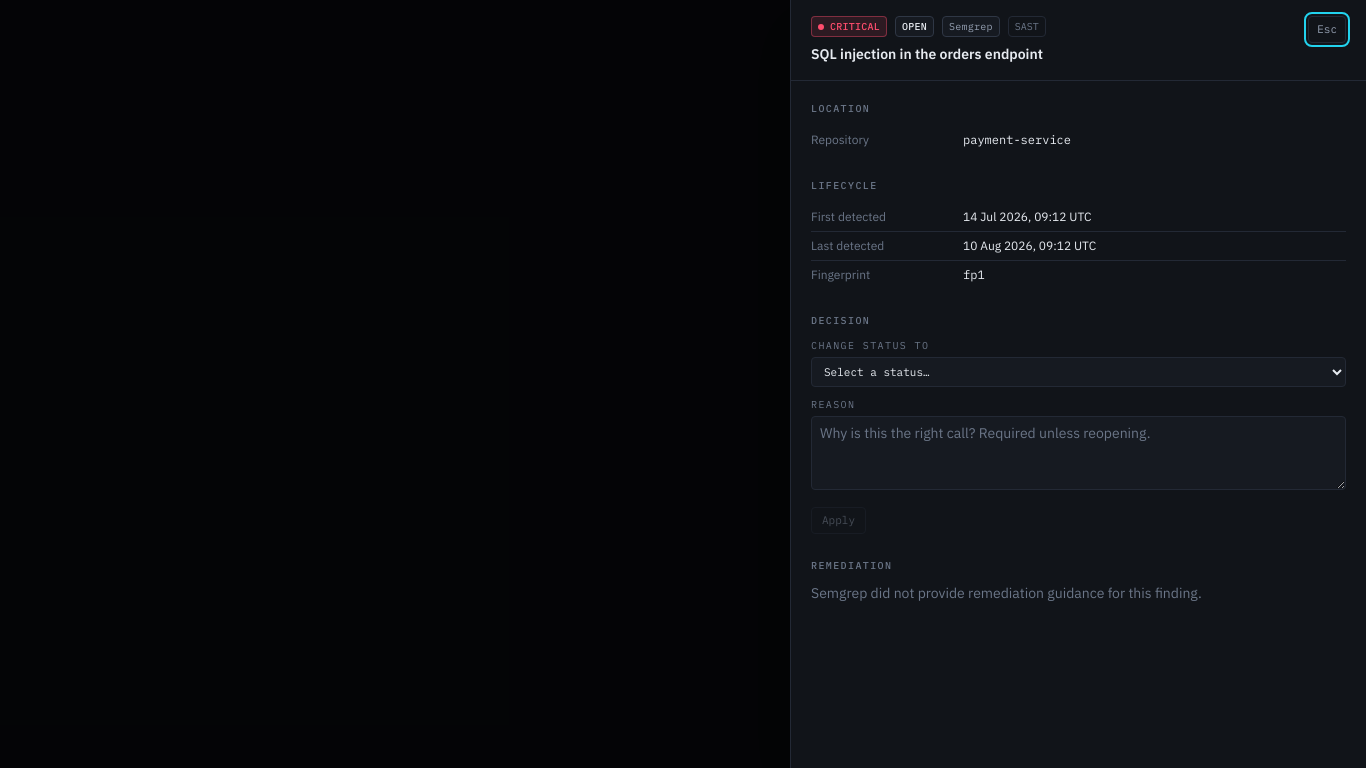
Test: FindingDetails decision section › renders a failure inline and keeps the typed reason
The width and height of the screenshot is (1366, 768).
Select "Suppressed" in the dropdown labelled "Change status to" at (1078, 372), box [811,357,1346,387]
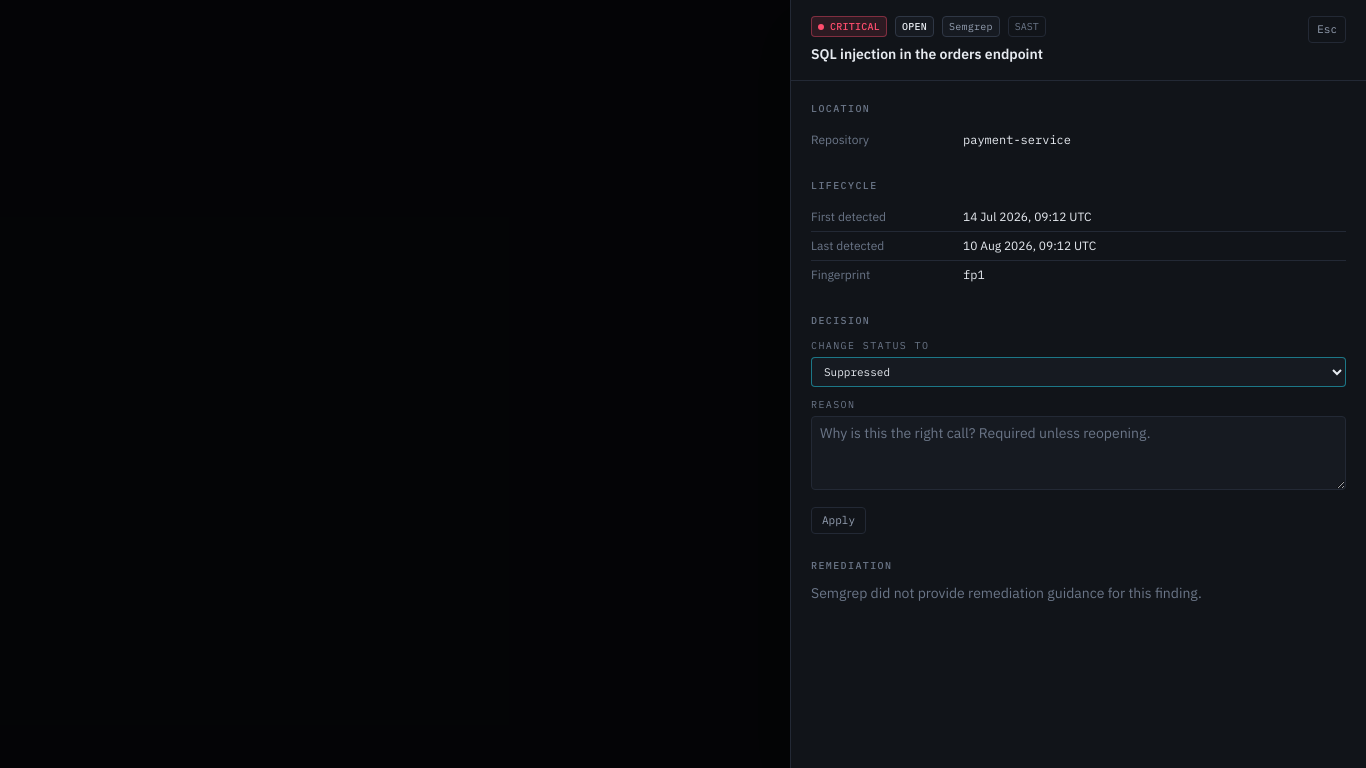
Type "Noisy rule." into the text box labelled "Reason" at (1078, 453), box [811,416,1346,490]
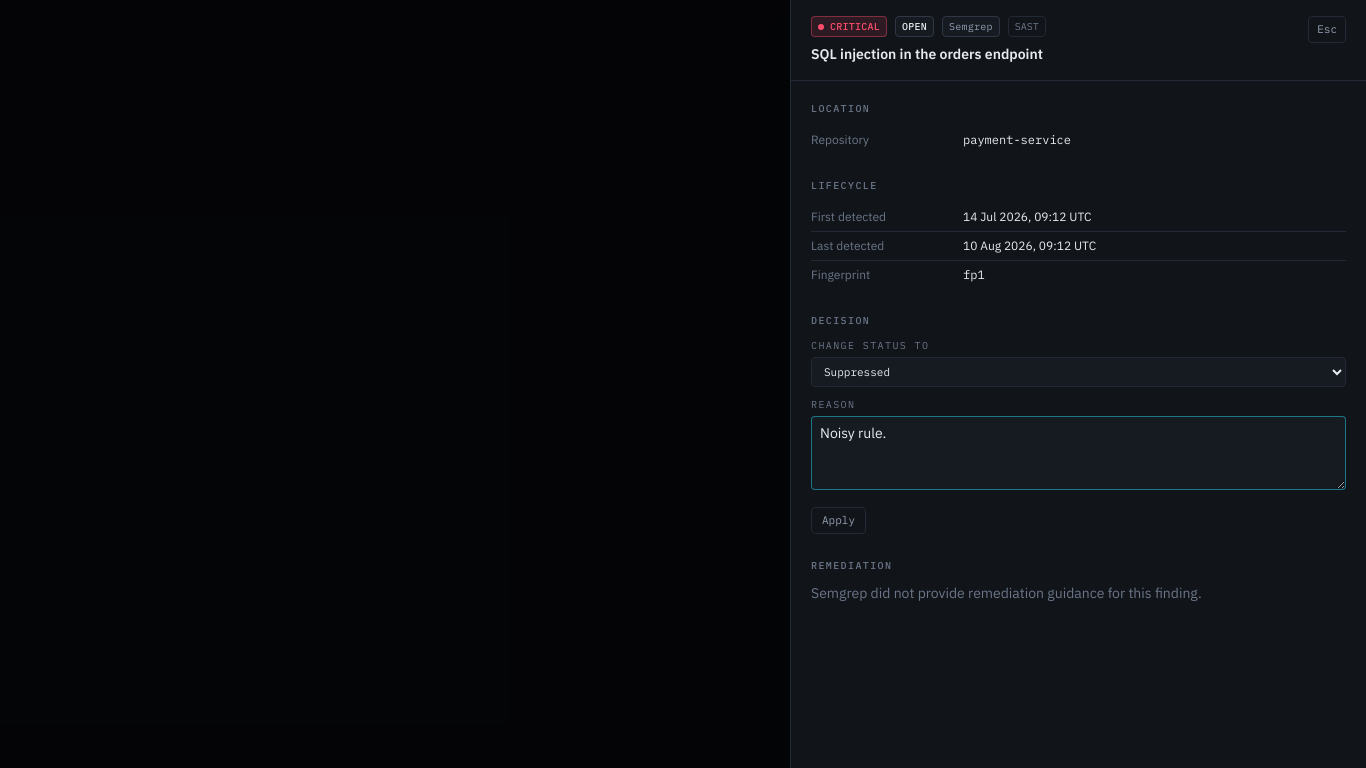
Click the button "Apply" at (838, 521), box [811,507,866,534]
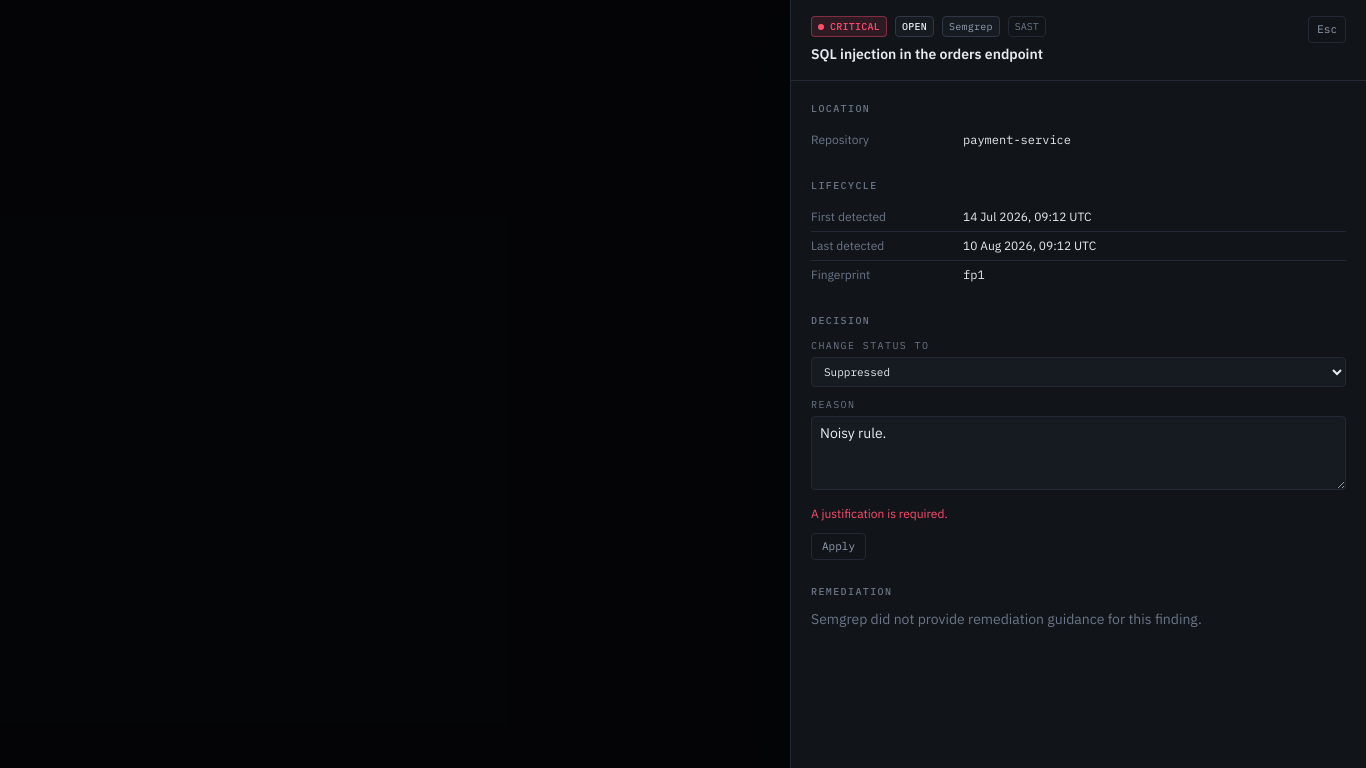
Check: the text "A justification is required." is shown, box [811,506,948,521]
